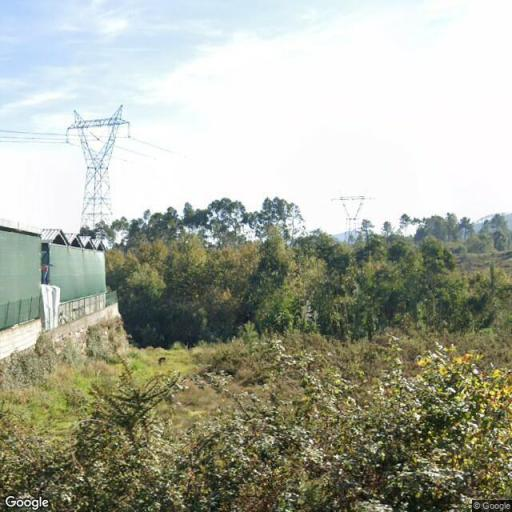wt_6: (66, 102, 132, 230), (330, 187, 373, 241)
